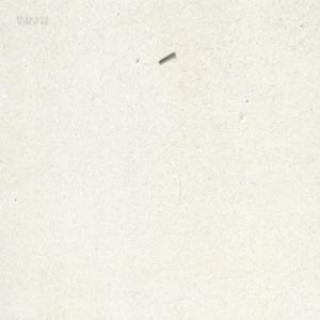Bolttrack_idkeyframe: (157, 50, 174, 63)
